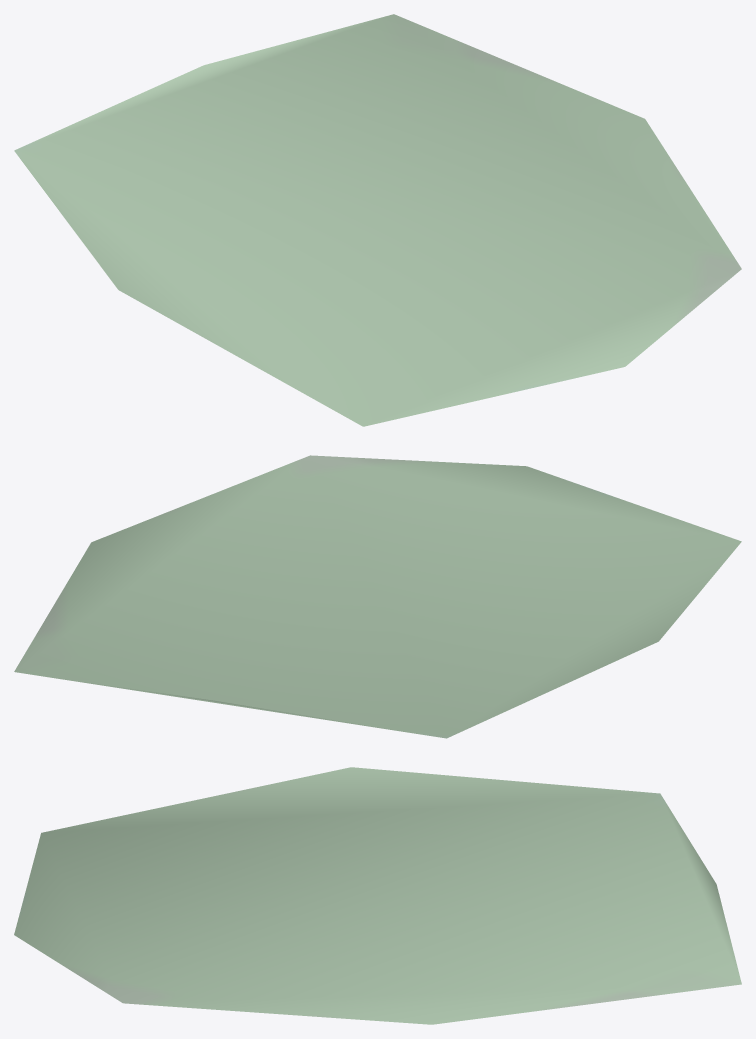
The model's file is TROLLHOLE02_HOLECAP210.fbx.
3 renders of one model, top to bottom at view 1: azimuth 30°, elevation 25°; view 2: azimuth 150°, elevation 25°; view 3: azimuth 270°, elevation 25°, orthographic. The views are drawn at different scales.
Parts seen in each view (by area): view 1: TROLLHOLE02_HOLECAP210; view 2: TROLLHOLE02_HOLECAP210; view 3: TROLLHOLE02_HOLECAP210.
Boxes of the visible parts, <box> form: TROLLHOLE02_HOLECAP210: <box>14,14,741,426</box>; TROLLHOLE02_HOLECAP210: <box>14,455,741,738</box>; TROLLHOLE02_HOLECAP210: <box>14,767,741,1024</box>.
Bounding box in the file's own units: 11542 × 861 × 13777.
Materials: 1 (1 with a texture image).
